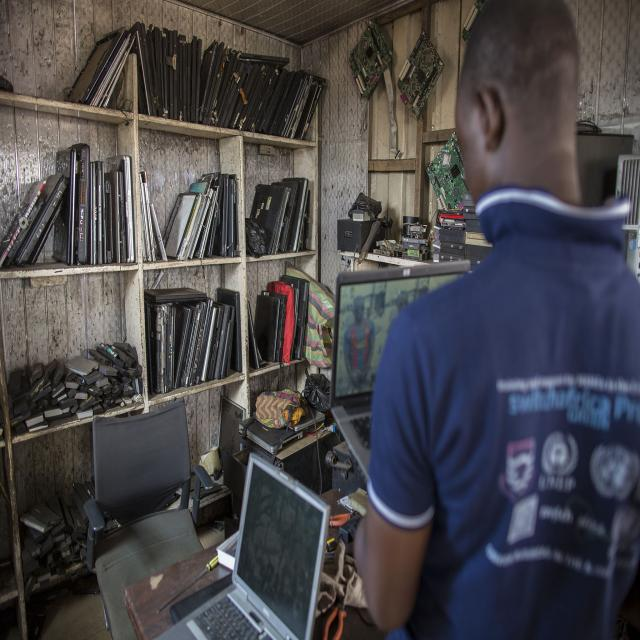hazard: (4, 47, 330, 470), (171, 416, 329, 640)
